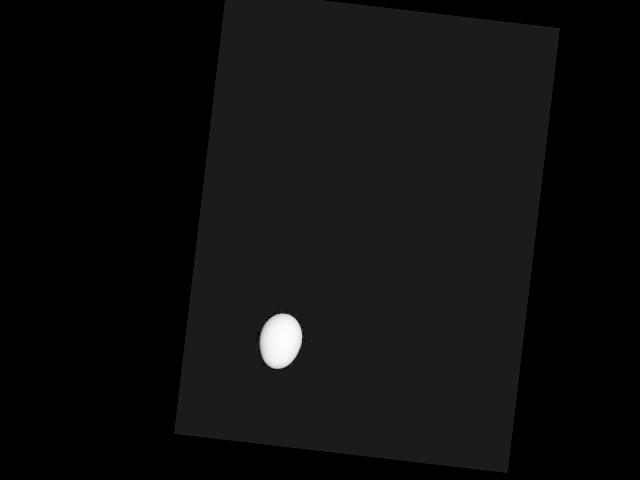egg: (257, 310, 304, 370)
